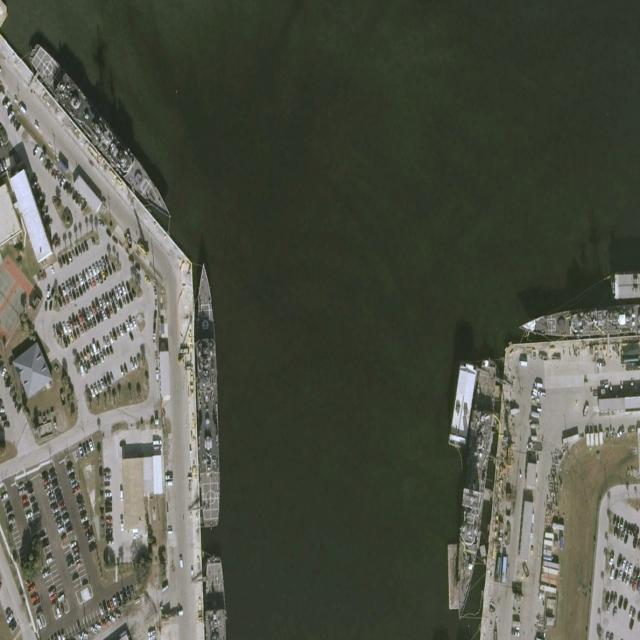Frigate: (24, 37, 178, 228), (447, 355, 501, 623), (193, 260, 222, 529), (518, 304, 635, 339)
